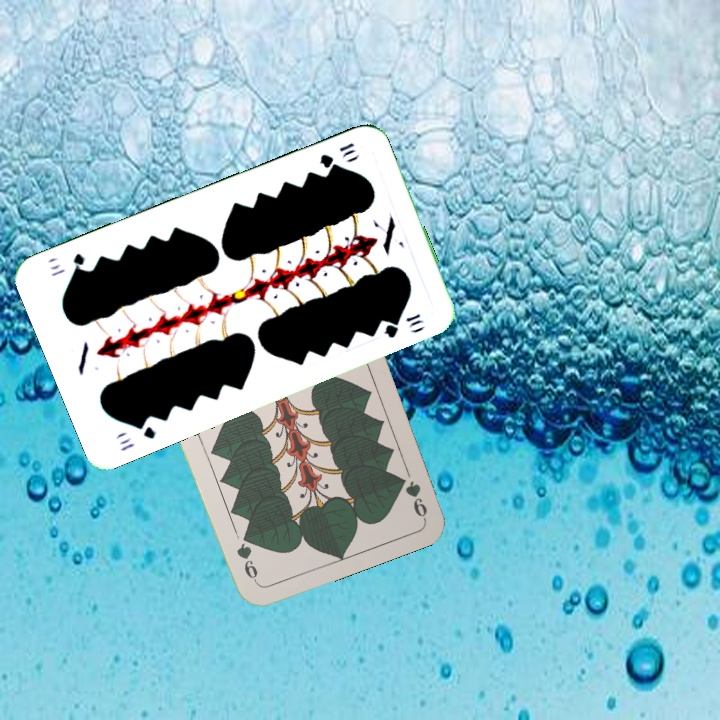G10: (115, 417, 159, 454), (316, 138, 357, 171)
G9: (395, 472, 430, 520)
